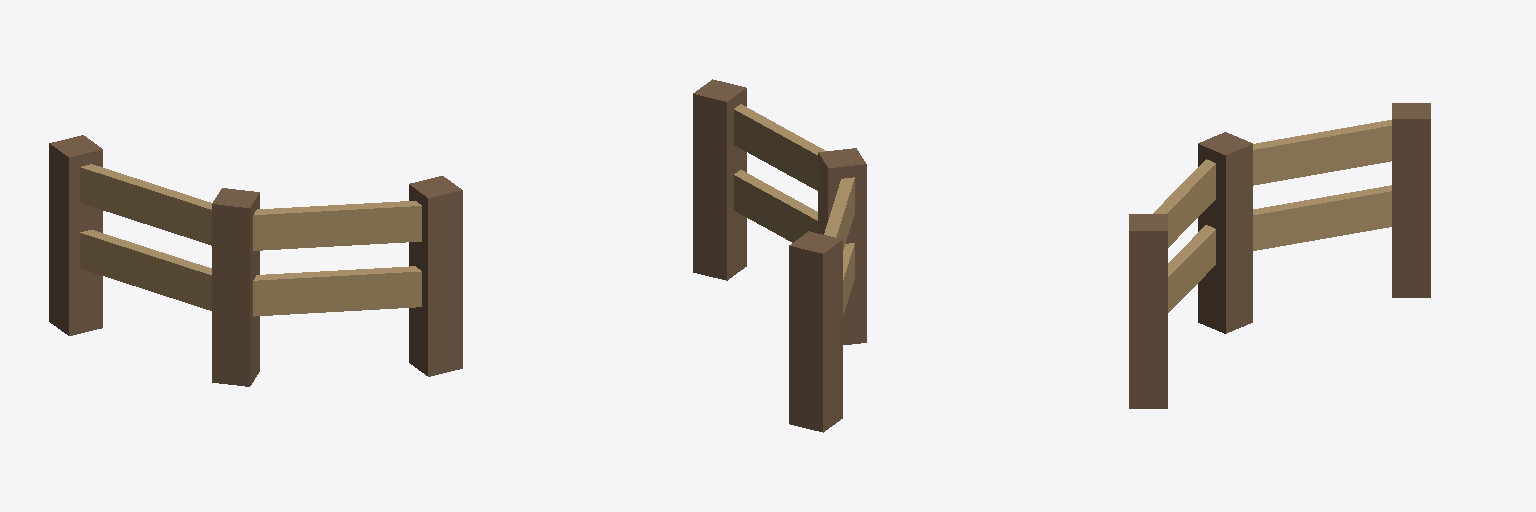
Rendered from Hilly_Prop_Fence_Curve_1x1.obj.
3 renders of one model, left to right at view 1: azimuth 30°, elevation 25°; view 2: azimuth 150°, elevation 25°; view 3: azimuth 270°, elevation 25°, orthographic.
Parts seen in each view (by area): view 1: object6, object2, object1, object4, object3, object5, object7; view 2: object1, object6, object2, object4, object3, object7, object5; view 3: object2, object1, object6, object5, object7, object4, object3.
Boxes of the visible parts, <box> form: object6: <box>409,176,462,376</box>; object2: <box>212,188,259,386</box>; object1: <box>49,135,102,335</box>; object4: <box>253,201,421,250</box>; object3: <box>253,266,421,316</box>; object5: <box>80,230,211,310</box>; object7: <box>80,164,211,245</box>; object1: <box>789,231,842,432</box>; object6: <box>693,79,746,280</box>; object2: <box>818,148,866,344</box>; object4: <box>734,104,824,190</box>; object3: <box>734,170,817,242</box>; object7: <box>824,177,854,249</box>; object5: <box>843,243,854,315</box>; object2: <box>1198,132,1252,333</box>; object1: <box>1392,103,1430,297</box>; object6: <box>1129,214,1167,408</box>; object5: <box>1253,185,1391,250</box>; object7: <box>1253,120,1391,185</box>; object4: <box>1153,159,1215,247</box>; object3: <box>1168,225,1215,312</box>.
Size of the model in its own units: 1.15 by 0.7498 by 1.15.